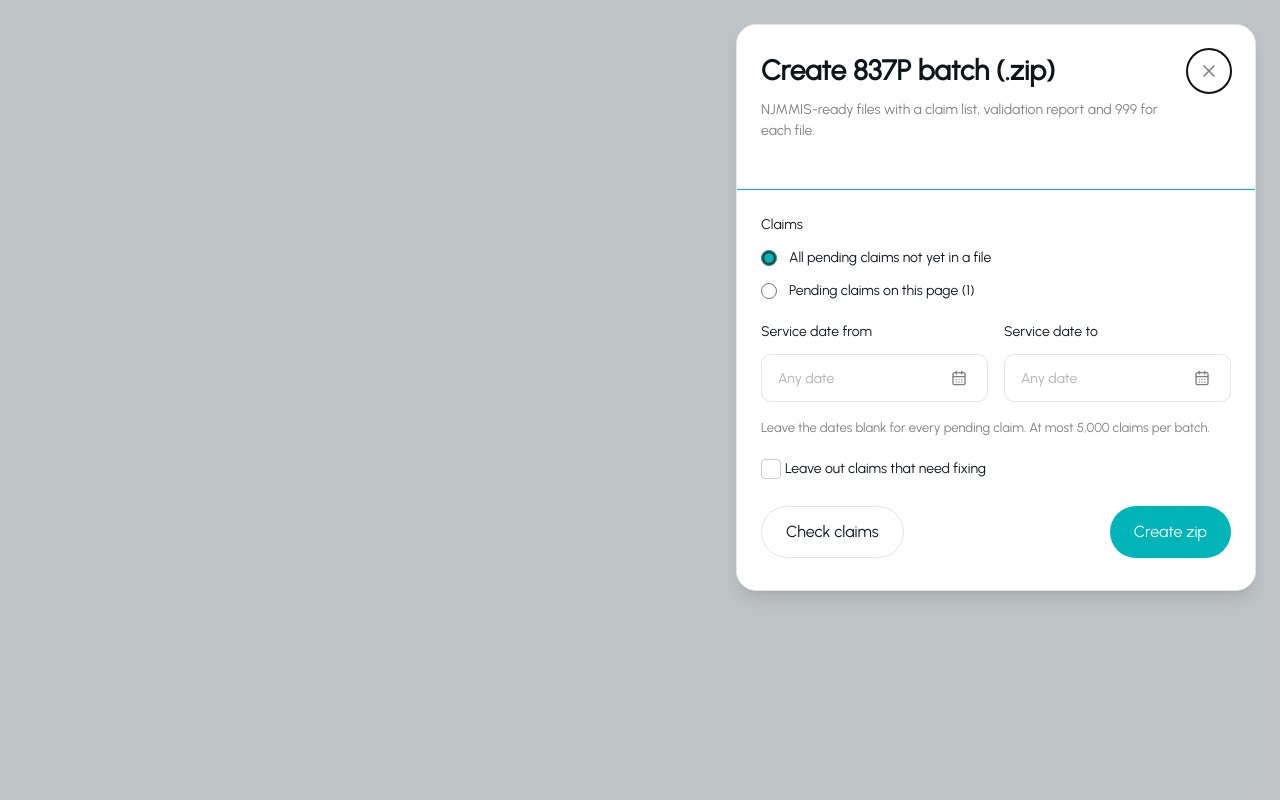
Test: X12BatchRunDialog › blocks the zip while claims need fixing unless they are left out
Click the button "Check claims".
click(832, 532)  # box [761, 506, 904, 558]
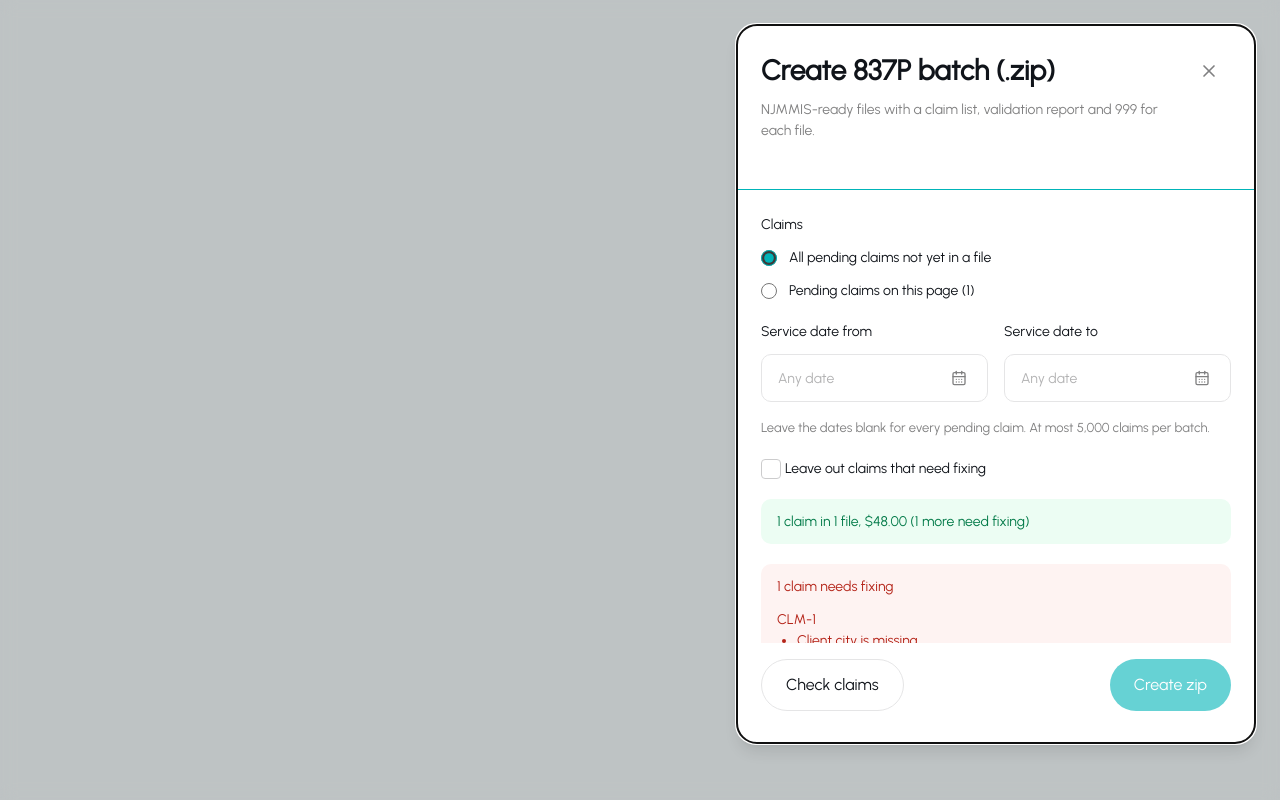
Expected: the list item "Client city is missing" is shown, [797, 632, 918, 643]
Expected: the button "Create zip" is disabled, [1110, 659, 1231, 711]
Click the checkbox labelled "Leave out claims that need fixing".
click(874, 468)  # box [761, 458, 986, 478]
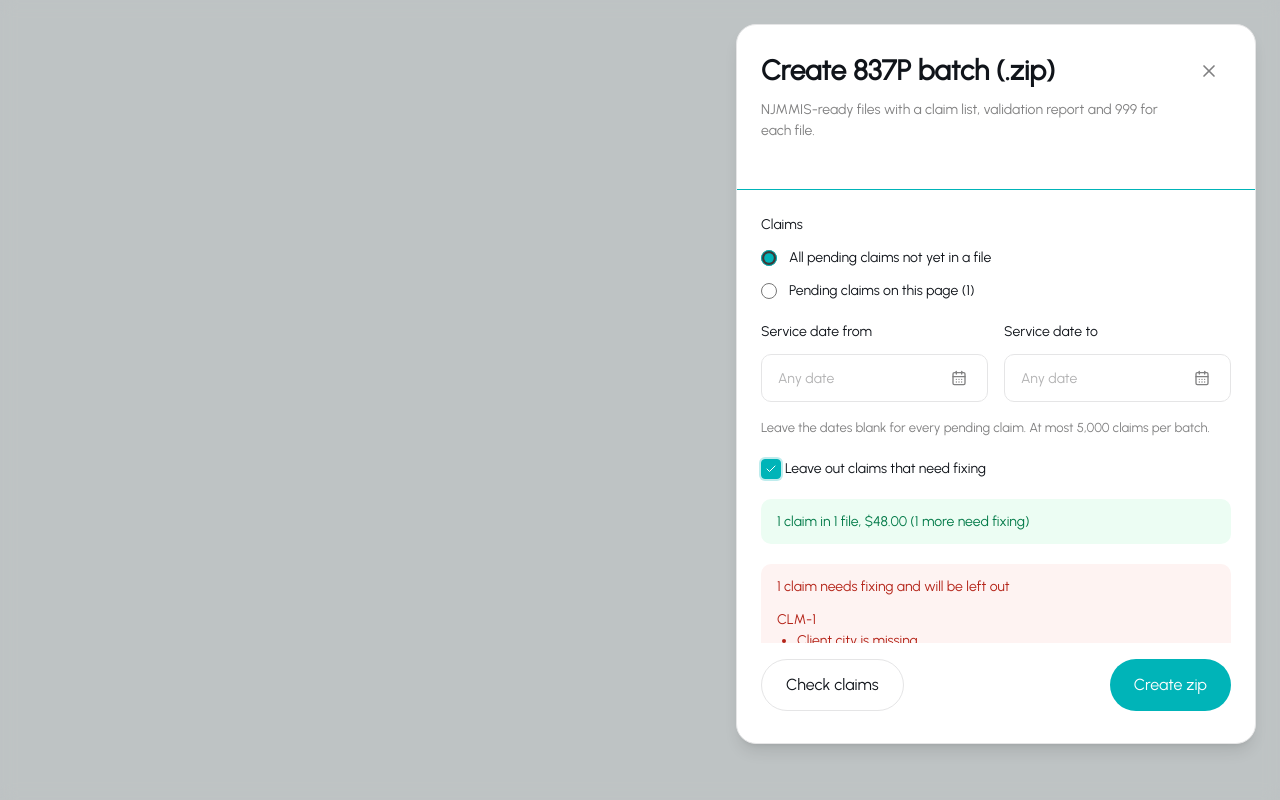
Expected: the button "Create zip" is enabled, [1110, 659, 1231, 711]
